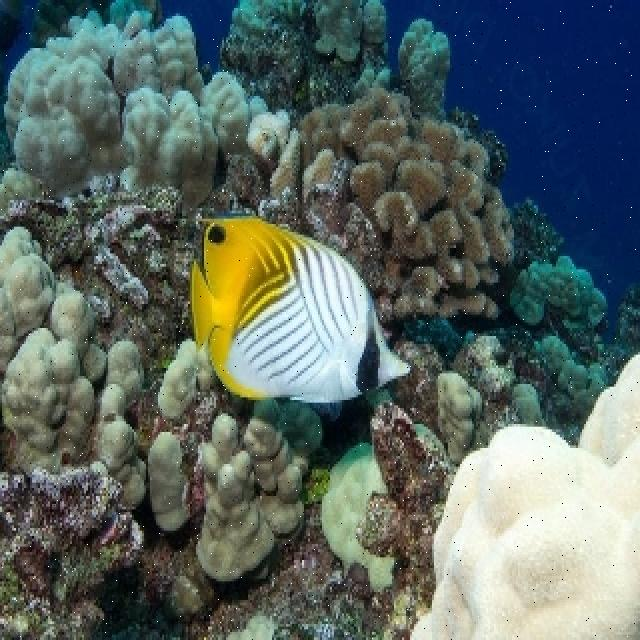fish: (190, 216, 413, 404)
reefs: (411, 344, 638, 637), (0, 0, 300, 213), (299, 91, 518, 326), (0, 221, 149, 511), (149, 398, 327, 582), (459, 252, 608, 429), (225, 4, 390, 119), (395, 18, 452, 119), (435, 371, 487, 449)
